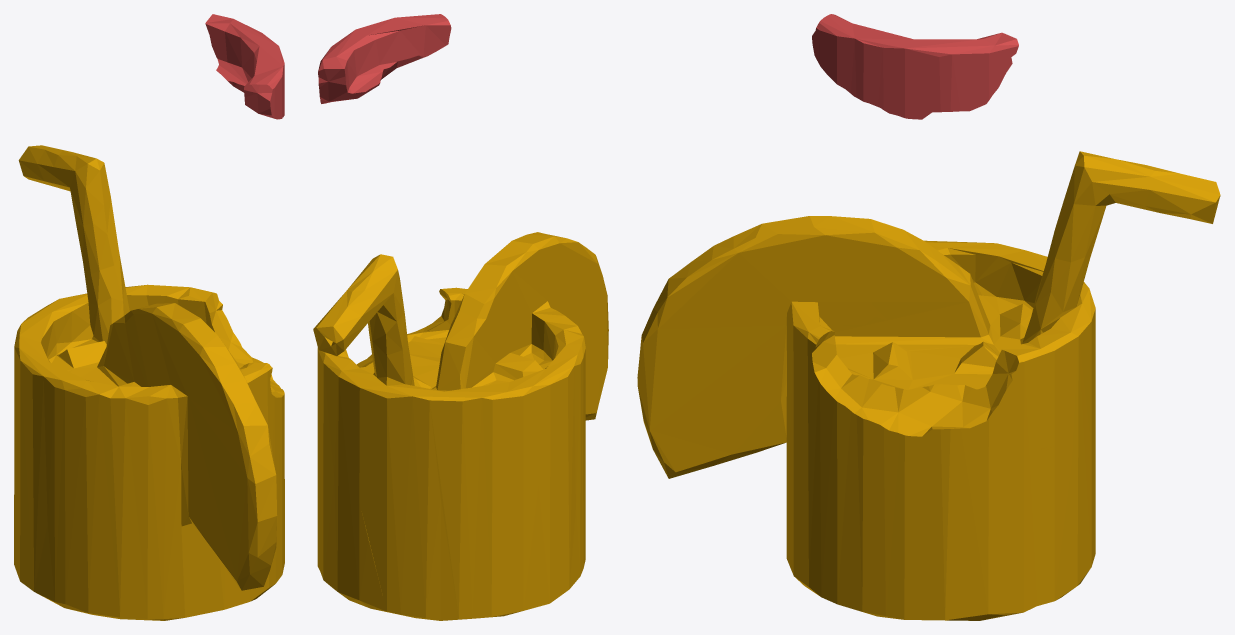
Rendered from fractured_26_2pcs_transformed.glb.
The picture shows the model from 3 angles, left to right: view 1: azimuth 30°, elevation 25°; view 2: azimuth 150°, elevation 25°; view 3: azimuth 270°, elevation 25°; orthographic projection. The views are drawn at different scales.
Parts seen in each view (by area): view 1: piece_0.obj, piece_1.obj; view 2: piece_0.obj, piece_1.obj; view 3: piece_0.obj, piece_1.obj.
Boxes of the visible parts, <box> form: piece_0.obj: <box>14,145,284,620</box>; piece_1.obj: <box>205,14,284,119</box>; piece_0.obj: <box>313,232,608,620</box>; piece_1.obj: <box>318,14,451,103</box>; piece_0.obj: <box>637,151,1220,620</box>; piece_1.obj: <box>812,14,1018,119</box>.
Size of the model in its own units: 0.5301 by 1.09 by 1.
